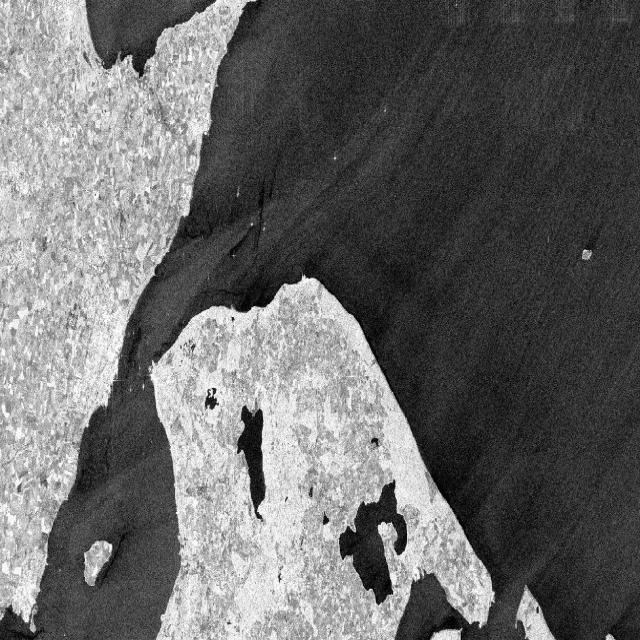look-alike: (98, 531, 132, 593), (181, 210, 220, 253), (233, 278, 272, 314), (2, 612, 50, 640), (421, 612, 457, 640), (124, 333, 140, 380), (153, 333, 180, 358)
oil-spill: (227, 172, 284, 267)
ship: (233, 179, 242, 201), (248, 213, 256, 233), (261, 220, 268, 238), (141, 378, 147, 392)
